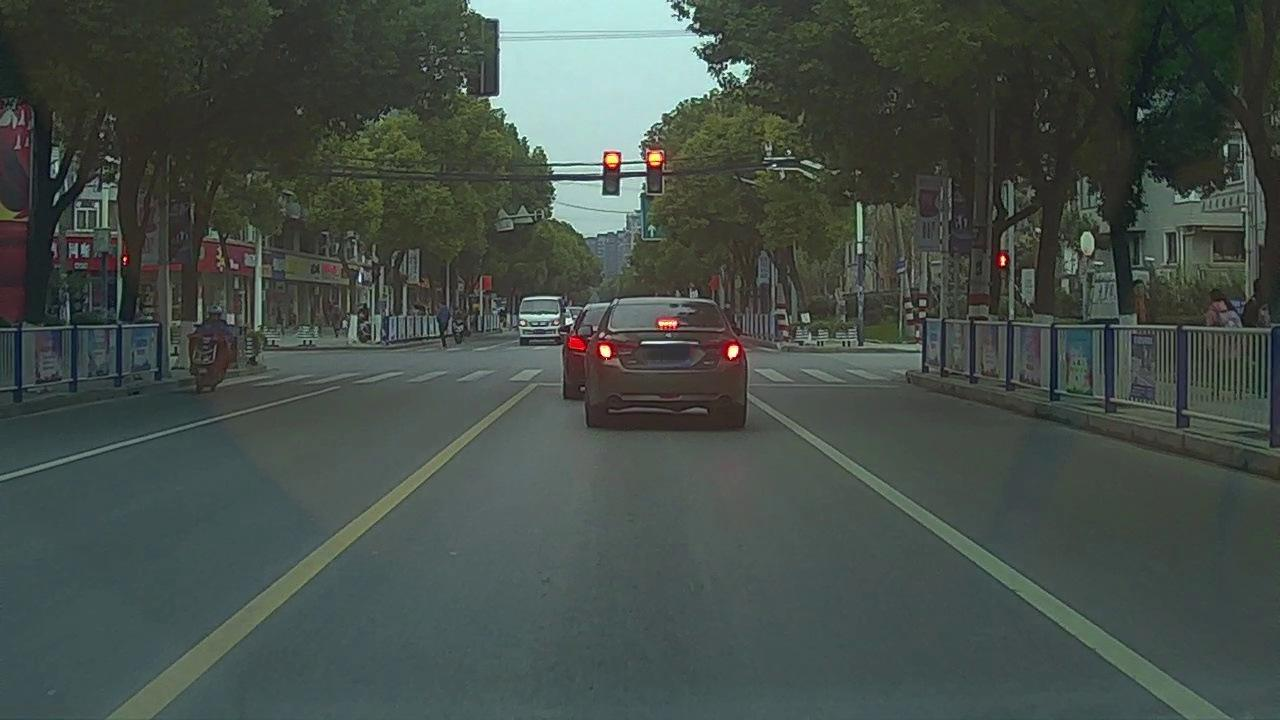traffic_light: (646, 152, 664, 193), (605, 153, 619, 195)
